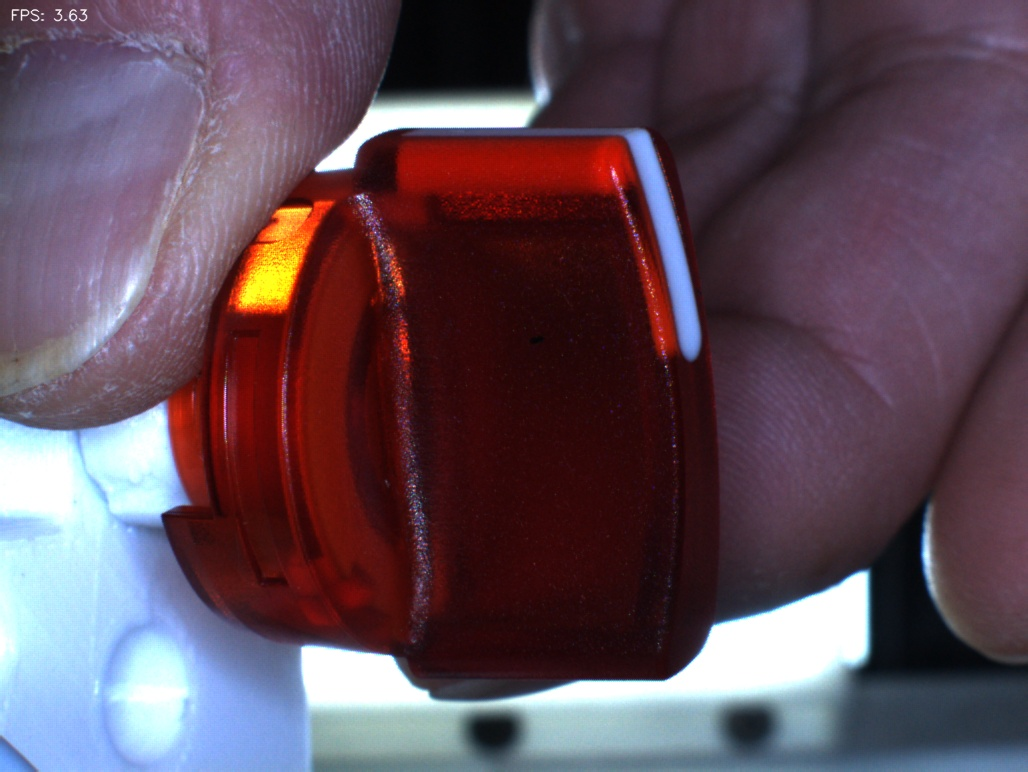PointNoir: (493, 301, 582, 374)
